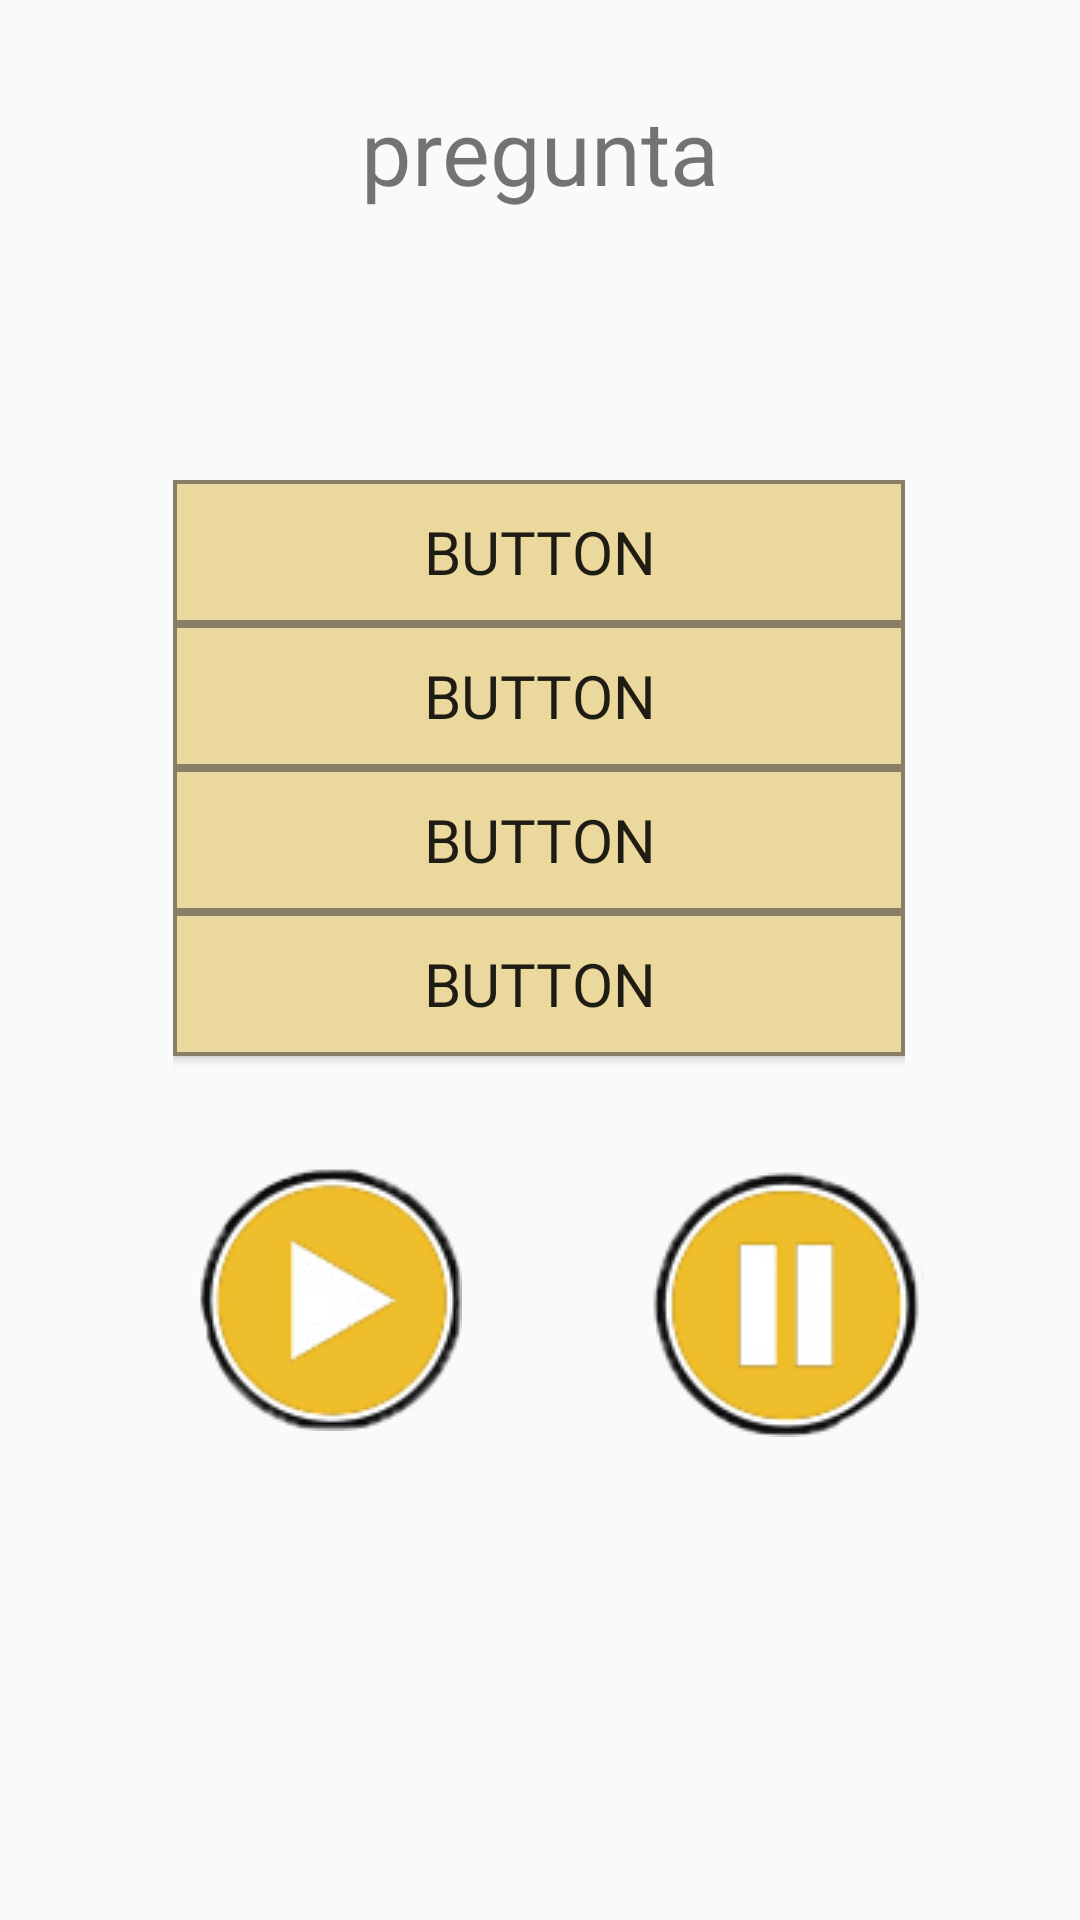

Icon bounding boxes for this 1080x1920 phone screenshot, format (left=x1, top=y1, right=x2, bottom=y2):
pausemusic: (left=653, top=1172, right=919, bottom=1437)
playmusic: (left=200, top=1169, right=462, bottom=1431)
